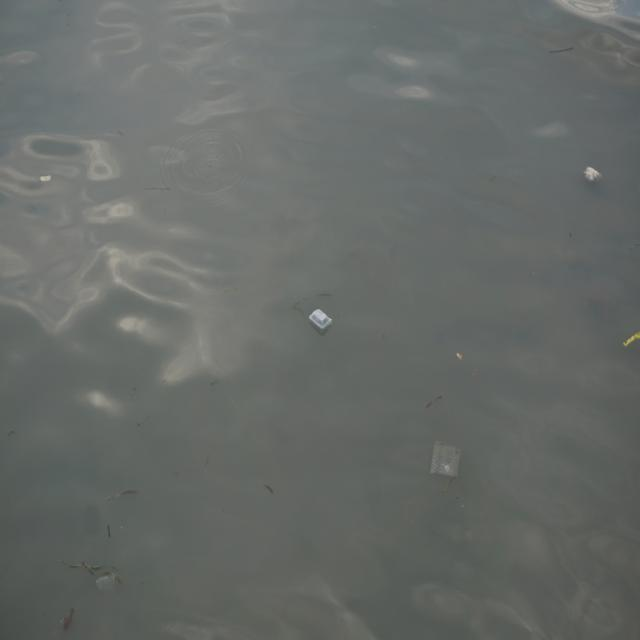Bungkus Makanan: (307, 303, 335, 338)
Bungkus Minuman: (94, 570, 117, 595)
Kantong Plastik: (427, 436, 466, 484)
